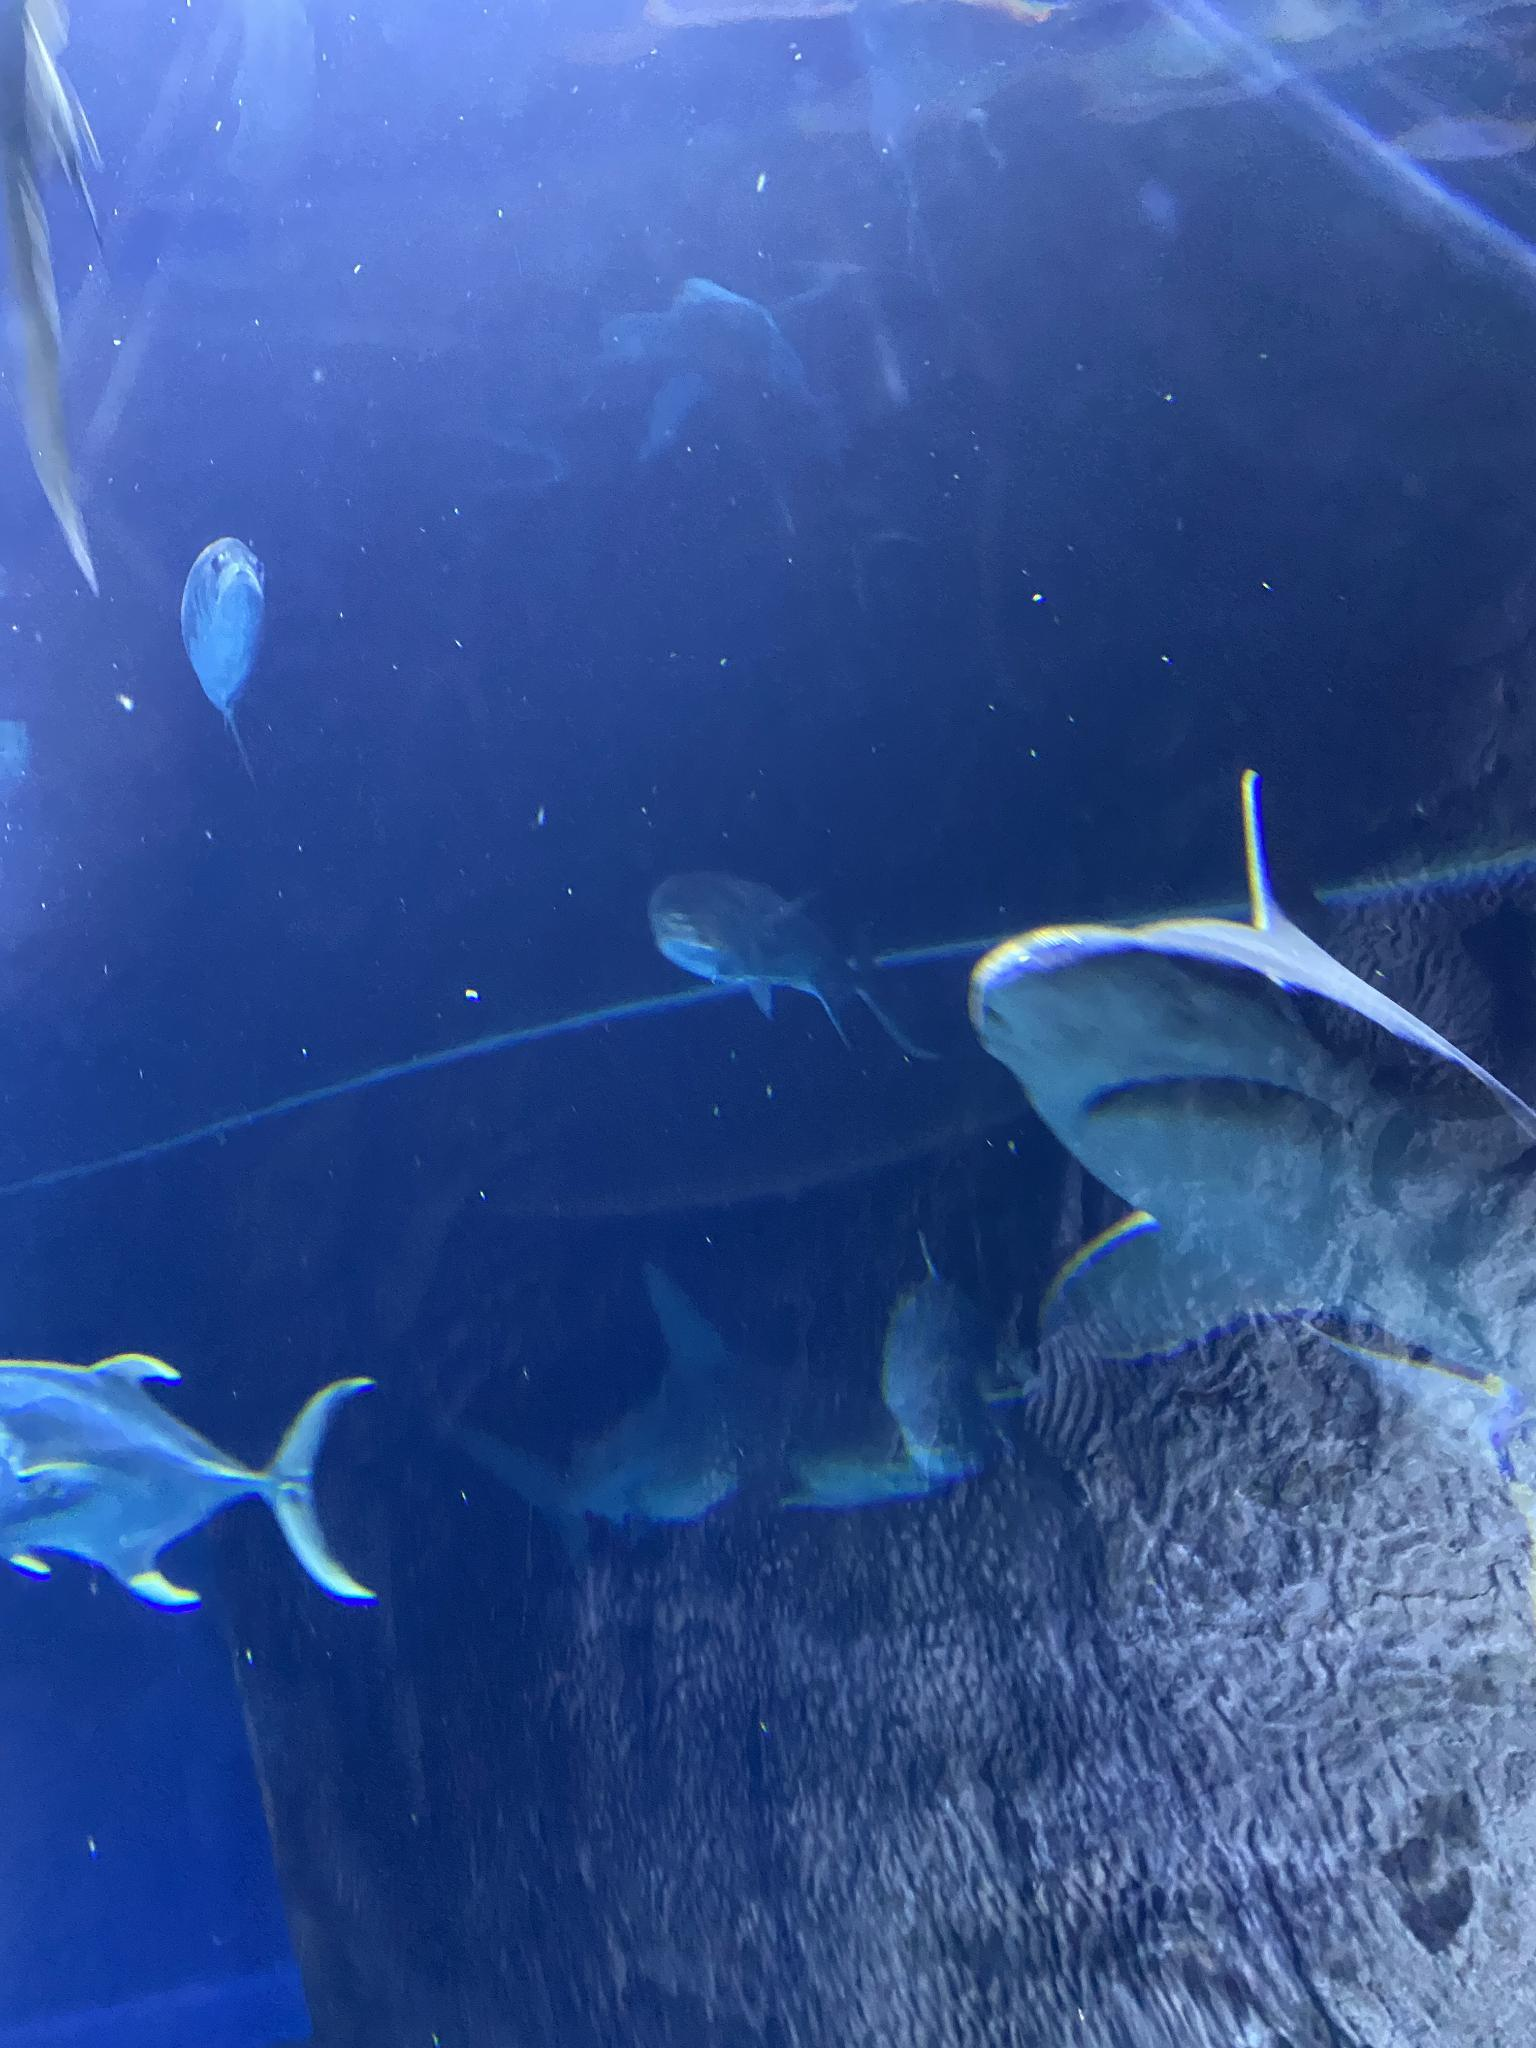fish: (0, 1348, 374, 1605), (653, 864, 925, 1048), (884, 1240, 997, 1479), (181, 535, 261, 726)
shark: (978, 769, 1536, 1379), (440, 1261, 934, 1535)
